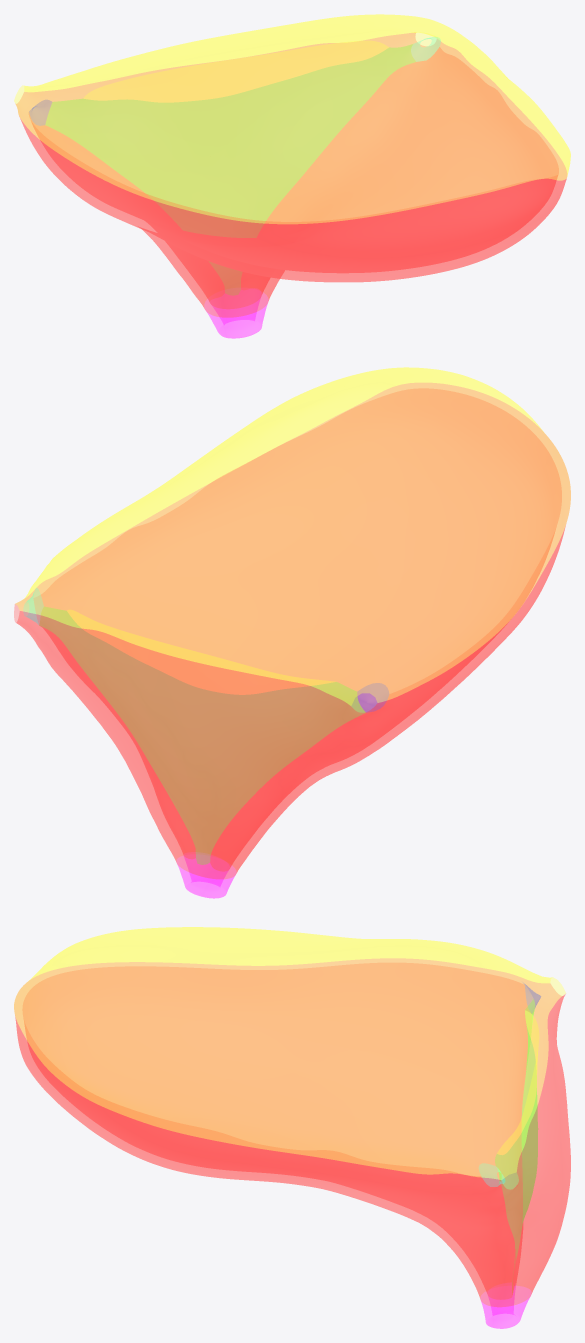
Rendered from harnblase-female.glb.
3 renders of one model, top to bottom at view 1: azimuth 30°, elevation 25°; view 2: azimuth 150°, elevation 25°; view 3: azimuth 270°, elevation 25°, orthographic. The views are drawn at different scales.
Visible parts, largest first — view 1: 0:5:VH_F_fundus_of_urinary_bladder_dome, 0:4:VH_F_fundus_of_urinary_bladder_base, 0:0:VH_F_trigone_of_urinary_bladder, 0:6:VH_F_urinary_bladder_neck_smooth_muscle, 0:1:VH_F_ureteral_orifice_L; view 2: 0:4:VH_F_fundus_of_urinary_bladder_base, 0:5:VH_F_fundus_of_urinary_bladder_dome, 0:0:VH_F_trigone_of_urinary_bladder, 0:6:VH_F_urinary_bladder_neck_smooth_muscle, 0:2:VH_F_ureteral_orifice_R; view 3: 0:4:VH_F_fundus_of_urinary_bladder_base, 0:5:VH_F_fundus_of_urinary_bladder_dome, 0:0:VH_F_trigone_of_urinary_bladder, 0:6:VH_F_urinary_bladder_neck_smooth_muscle.
Part boxes in pixels (x1,y1,x2,y2): 0:5:VH_F_fundus_of_urinary_bladder_dome: (14,14,570,223); 0:4:VH_F_fundus_of_urinary_bladder_base: (16,33,566,317); 0:0:VH_F_trigone_of_urinary_bladder: (45,44,415,220); 0:6:VH_F_urinary_bladder_neck_smooth_muscle: (204,289,268,338); 0:1:VH_F_ureteral_orifice_L: (411,37,440,61); 0:4:VH_F_fundus_of_urinary_bladder_base: (14,383,570,878); 0:5:VH_F_fundus_of_urinary_bladder_dome: (15,367,570,705); 0:0:VH_F_trigone_of_urinary_bladder: (40,607,365,864); 0:6:VH_F_urinary_bladder_neck_smooth_muscle: (176,854,236,898); 0:2:VH_F_ureteral_orifice_R: (357,683,388,712); 0:4:VH_F_fundus_of_urinary_bladder_base: (14,958,570,1306); 0:5:VH_F_fundus_of_urinary_bladder_dome: (14,927,565,1179); 0:0:VH_F_trigone_of_urinary_bladder: (495,999,537,1257); 0:6:VH_F_urinary_bladder_neck_smooth_muscle: (480,1285,531,1328).
Size of the model in its own units: 0.052 by 0.0442 by 0.0617.
